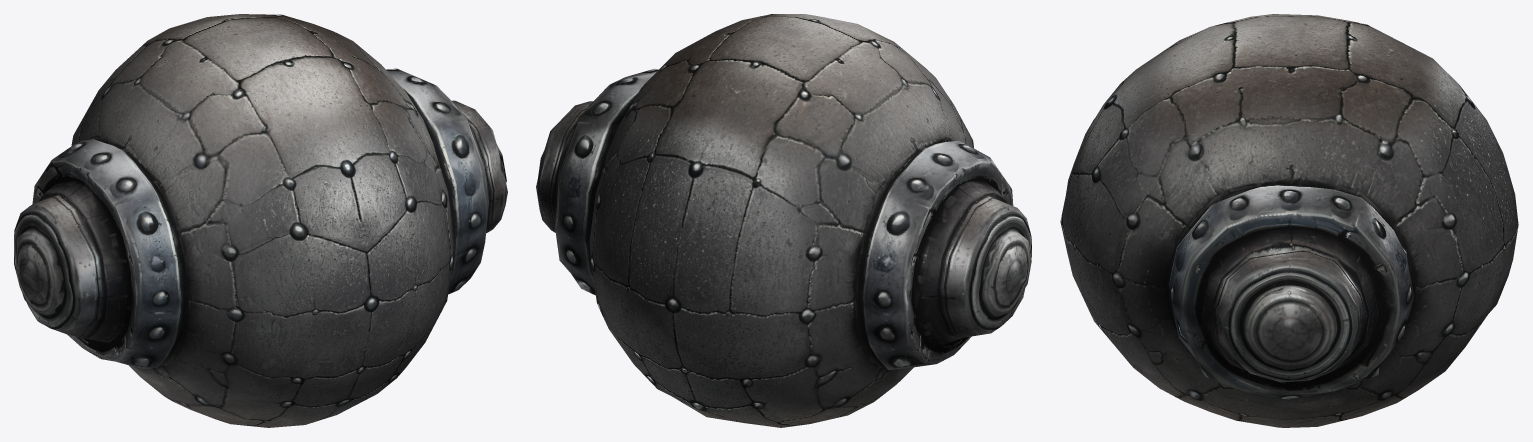
File: Knee.fbx
The picture shows the model from 3 angles, left to right: view 1: azimuth 30°, elevation 25°; view 2: azimuth 150°, elevation 25°; view 3: azimuth 270°, elevation 25°; orthographic projection.
Parts seen in each view (by area): view 1: texture_mapping; view 2: texture_mapping; view 3: texture_mapping.
Boxes of the visible parts, x1,y1,x2,y2 form: texture_mapping: [14, 14, 507, 427]; texture_mapping: [536, 14, 1031, 427]; texture_mapping: [1060, 14, 1518, 427].
Bounding box in the file's own units: 0.9902 × 0.837 × 0.7627.
Materials: 1 (1 with a texture image).
